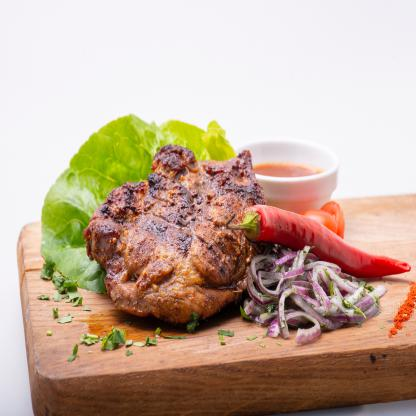Carne: (95, 153, 245, 319)
